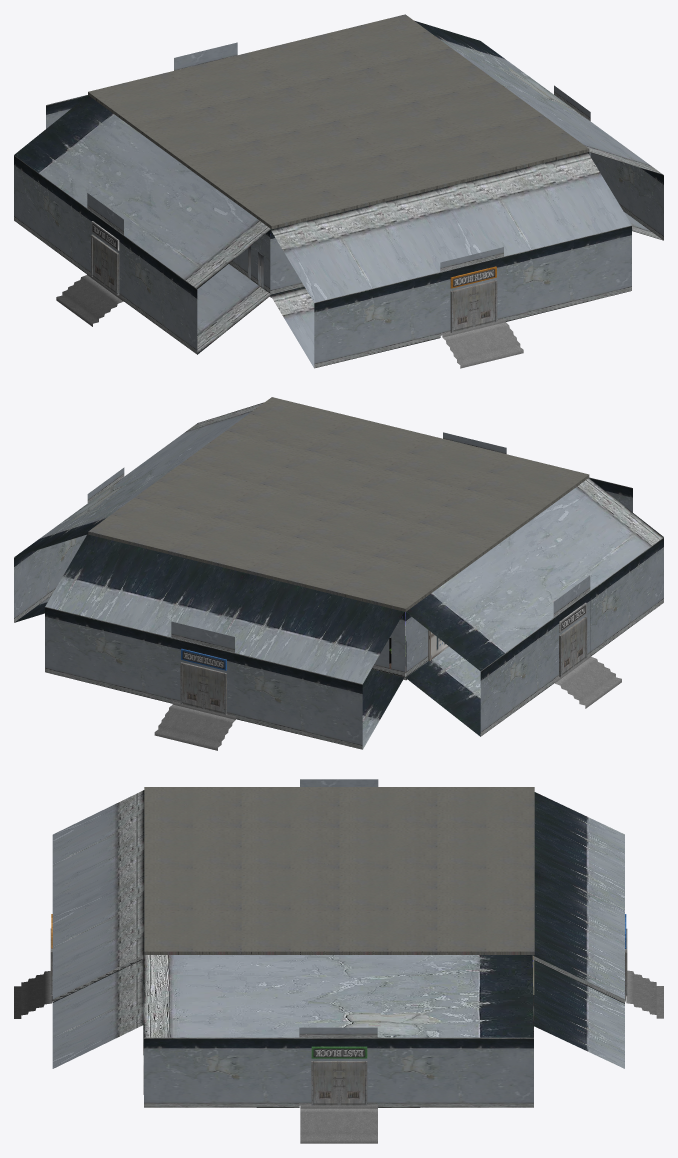
File: Prison_Hall.glb
3 views of the same model, one above another, from view 1: azimuth 30°, elevation 25°; view 2: azimuth 150°, elevation 25°; view 3: azimuth 270°, elevation 25° (orthographic). The views are drawn at different scales.
Parts seen in each view (by area): view 1: Prison_Hall; view 2: Prison_Hall; view 3: Prison_Hall.
Boxes of the visible parts, x1,y1,x2,y2 form: Prison_Hall: (14, 14, 663, 368); Prison_Hall: (14, 397, 663, 750); Prison_Hall: (14, 779, 663, 1143).
Bounding box in the file's own units: 282 × 65.31 × 281.
Materials: 34 (34 with a texture image).
